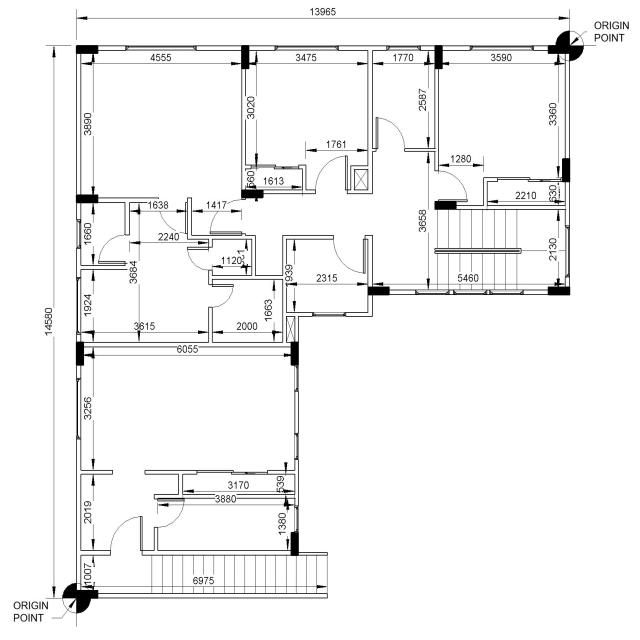Column: (548, 286, 570, 296), (434, 45, 443, 69), (76, 45, 98, 54), (548, 45, 570, 54), (434, 201, 456, 210), (76, 342, 84, 366), (290, 532, 298, 556), (290, 342, 298, 366), (241, 45, 249, 69), (562, 158, 570, 182), (77, 590, 98, 599), (241, 190, 264, 198), (76, 195, 98, 203), (368, 287, 390, 295)
Door: (209, 198, 246, 235), (333, 235, 367, 274), (110, 516, 142, 556), (315, 156, 348, 194), (372, 117, 405, 152), (158, 197, 188, 234), (434, 170, 468, 201), (154, 494, 184, 528), (98, 235, 130, 266), (208, 284, 234, 308), (187, 247, 213, 270)
Sliding Door: (497, 177, 562, 182), (197, 470, 268, 474), (251, 165, 299, 169)
Staircase: (428, 210, 565, 290), (81, 556, 337, 593)
Window: (126, 45, 197, 51), (274, 45, 338, 51), (470, 45, 534, 51), (76, 378, 81, 439), (76, 277, 81, 335), (565, 225, 570, 278), (386, 45, 421, 51), (489, 290, 524, 295), (415, 290, 450, 295), (453, 290, 487, 295), (312, 312, 346, 317), (76, 219, 81, 249), (294, 433, 299, 460), (294, 505, 299, 532), (294, 366, 299, 392)
